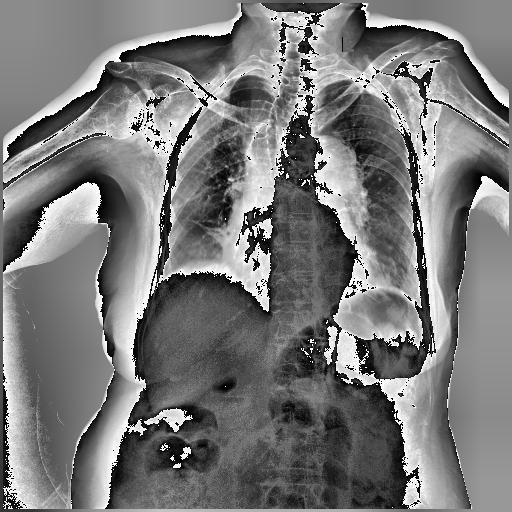0- Aortic enlargement: (288, 140, 358, 218), (294, 136, 358, 196), (292, 136, 358, 192)
13- Pulmonary fibrosis: (192, 218, 232, 253), (188, 213, 224, 247), (189, 218, 230, 247), (380, 130, 404, 160)
3- Cardiomegaly: (220, 229, 382, 288), (221, 240, 376, 284)
9- Other lesion: (252, 94, 298, 186), (246, 108, 274, 170)
